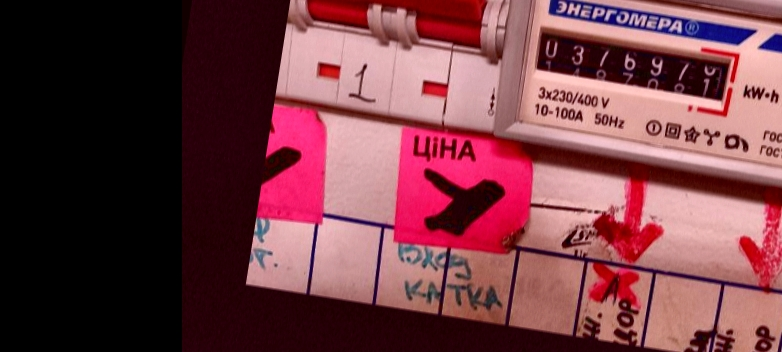0: (541, 35, 559, 60)
1: (698, 75, 710, 98)
3: (568, 43, 585, 66)
6: (620, 47, 639, 72)
7: (594, 44, 612, 69), (673, 56, 691, 81)
9: (647, 53, 664, 77)
screen: (520, 16, 743, 121)
